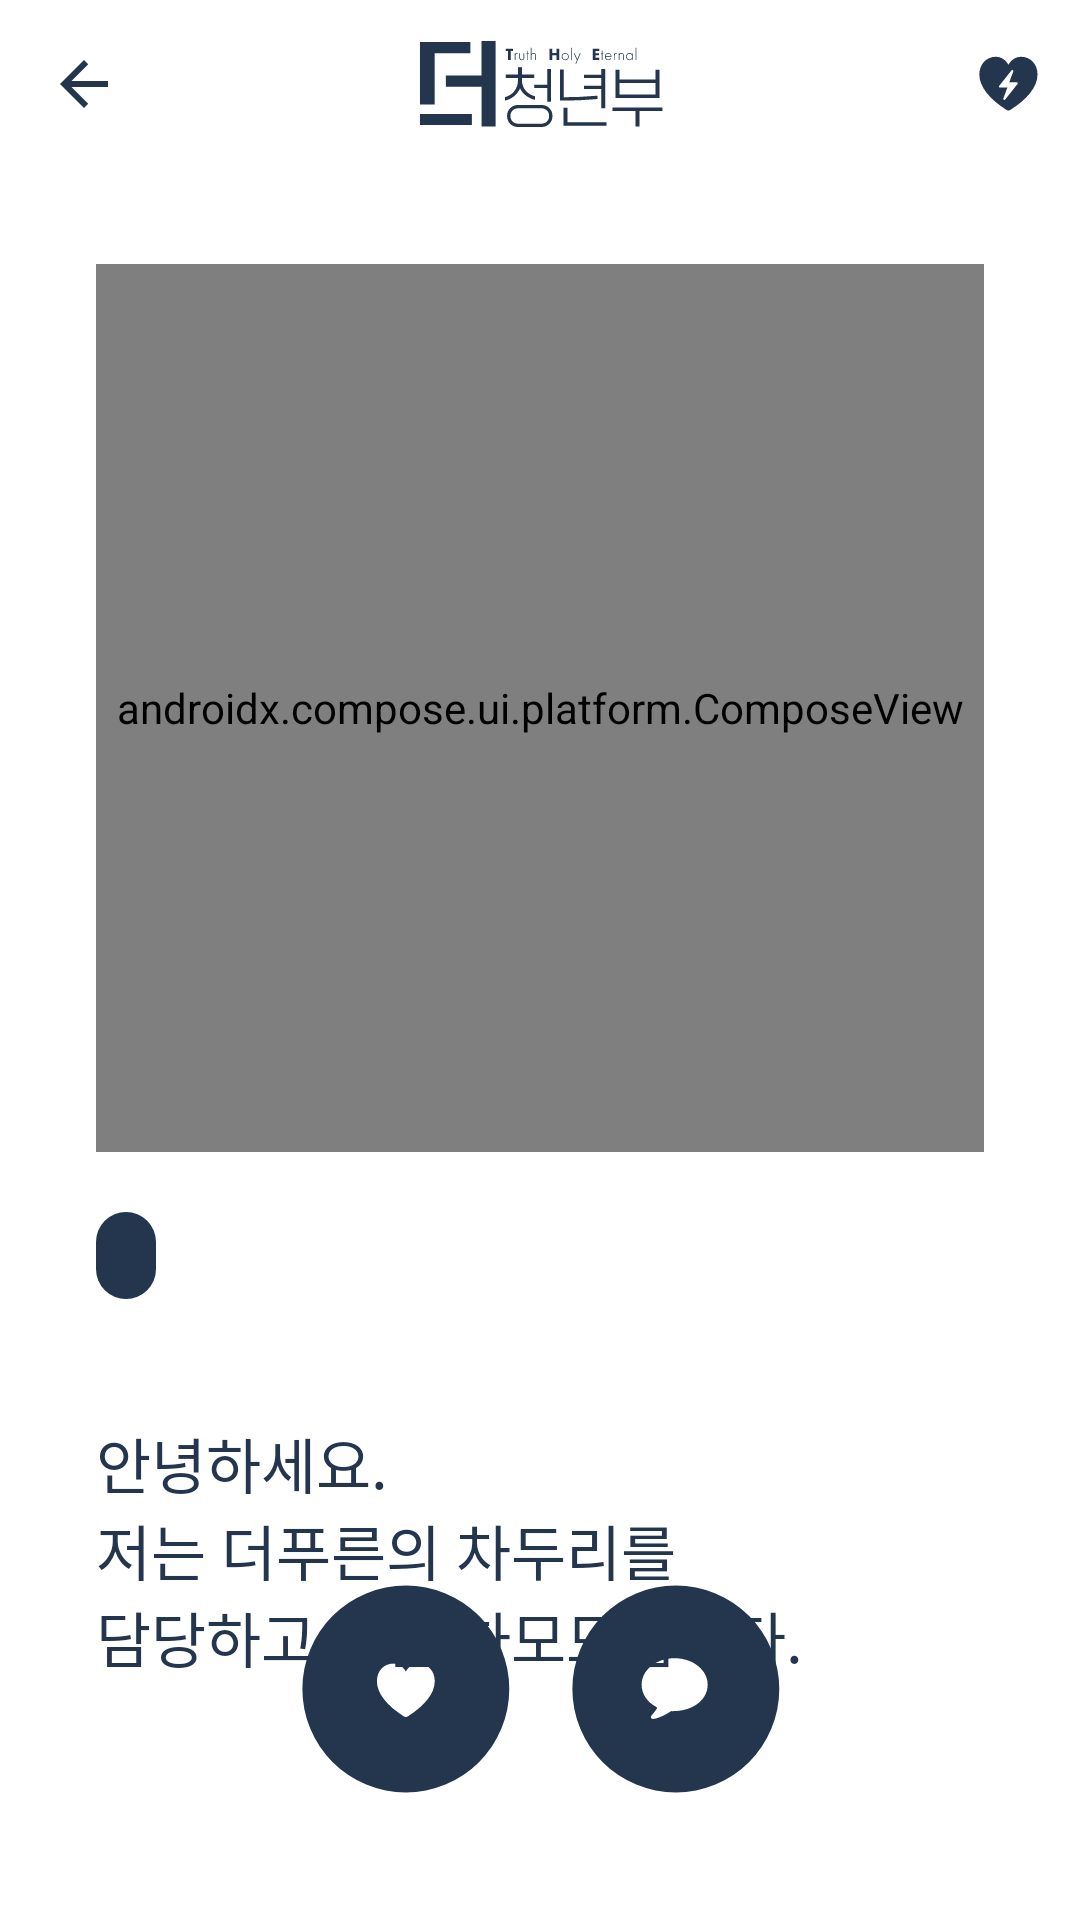

Icons on this 1080 × 1920 Android screen, each with its box as box(x1, y1, x2, y2):
heart: box(300, 1585, 510, 1793)
message: box(570, 1585, 780, 1793)
